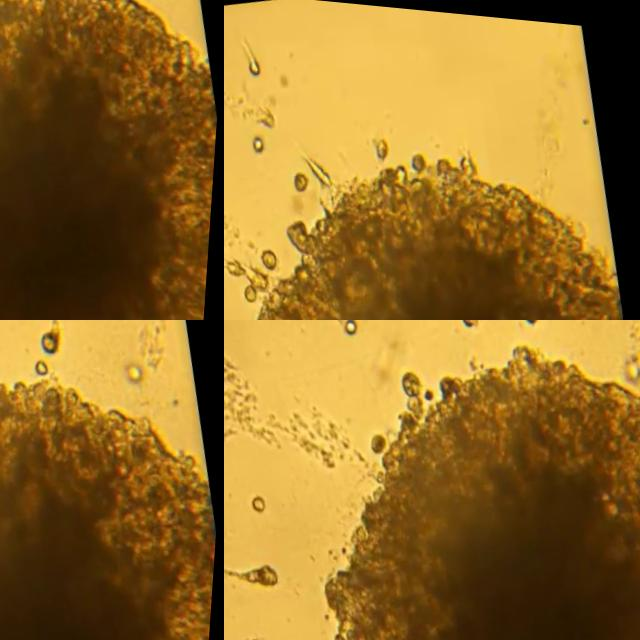cell: (233, 561, 283, 583), (307, 150, 335, 180), (241, 35, 262, 71), (248, 262, 275, 284), (231, 252, 250, 271), (296, 164, 311, 185), (45, 323, 62, 341), (265, 244, 280, 263), (374, 428, 389, 447), (264, 101, 278, 121), (35, 350, 51, 367), (247, 278, 261, 297), (378, 132, 390, 152), (255, 130, 267, 148), (256, 491, 269, 506), (344, 320, 361, 328)
tumor_mass: (328, 338, 640, 640), (259, 145, 627, 320), (0, 372, 220, 640)
